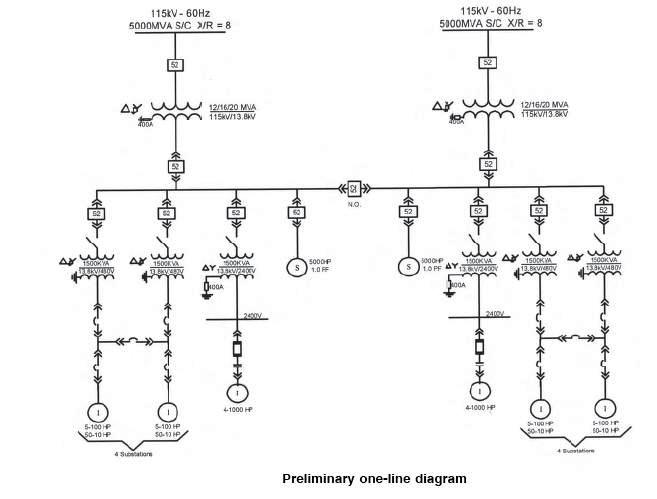circuit_breaker: (87, 312, 105, 327), (87, 360, 106, 373), (532, 355, 546, 372), (159, 312, 175, 326), (568, 331, 584, 343), (127, 332, 140, 346), (534, 309, 546, 324), (596, 357, 611, 369), (160, 361, 174, 372), (597, 310, 609, 322)
fuse: (223, 336, 254, 359), (468, 336, 492, 359)
ground: (574, 263, 589, 284), (66, 267, 81, 286), (511, 264, 524, 285), (138, 266, 150, 286), (436, 292, 464, 299)
switch: (582, 225, 626, 249), (518, 225, 561, 248), (459, 226, 491, 250), (221, 230, 255, 252), (150, 230, 182, 252), (77, 233, 107, 250)
transformer: (455, 92, 520, 139), (142, 93, 209, 135), (454, 245, 503, 281), (214, 250, 259, 283), (147, 250, 188, 285), (585, 244, 627, 278), (520, 245, 559, 281), (77, 253, 120, 285)
